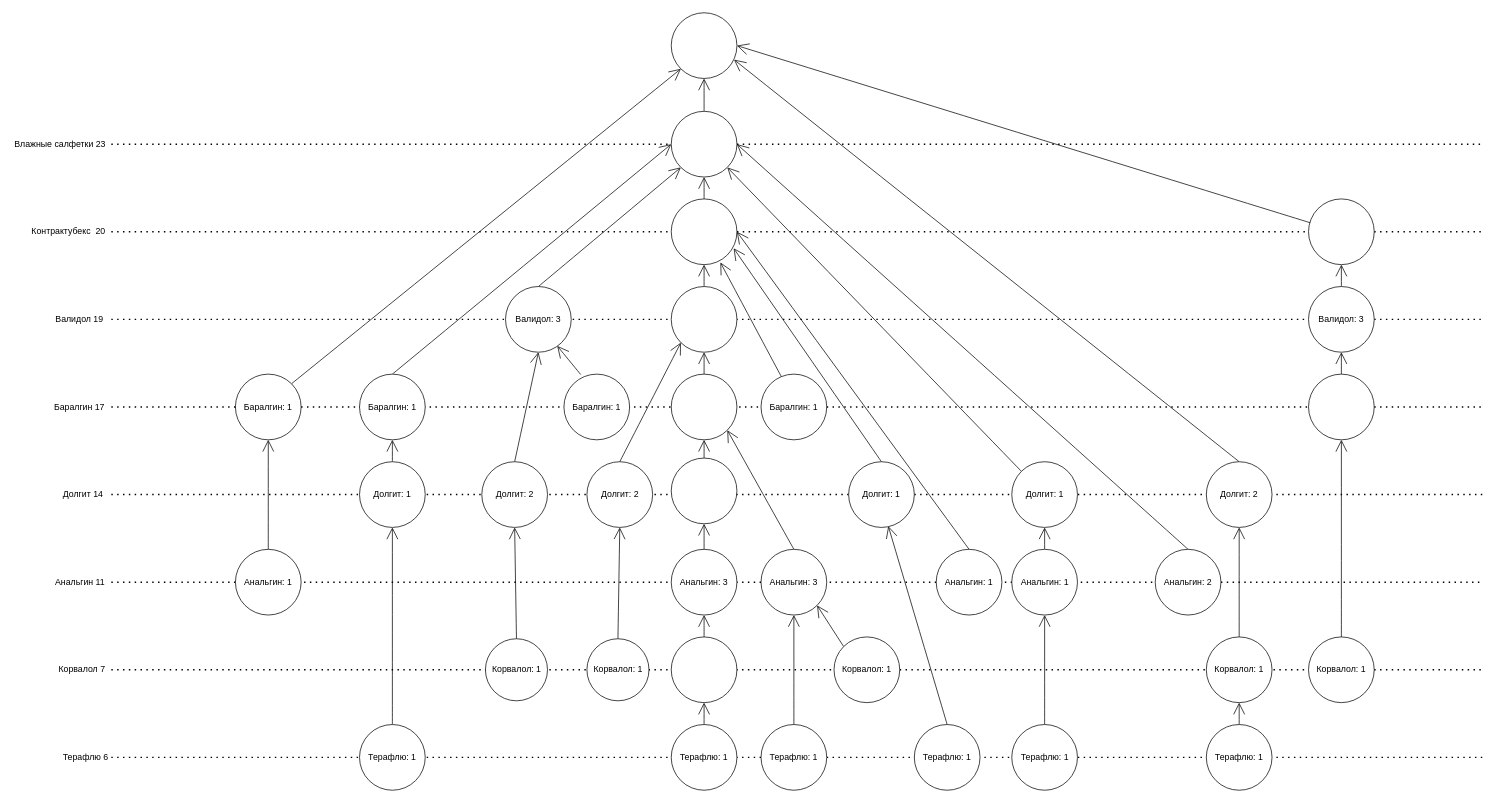
This 1497x803 diagram has some shape labels left out. Here are the shapes that lost their labels. From the top down, the centre of each, then its label:
(x=704, y=45): root
(x=704, y=144): Влажные салфетки: 23
(x=704, y=231): Контарактубекс: 17
(x=1341, y=231): Контарактубекс: 3
(x=704, y=319): Валидол: 13
(x=704, y=406): Баралгин: 10
(x=1341, y=406): Баралгин: 3
(x=704, y=490): Долгит: 5
(x=704, y=669): Корвалол: 2
